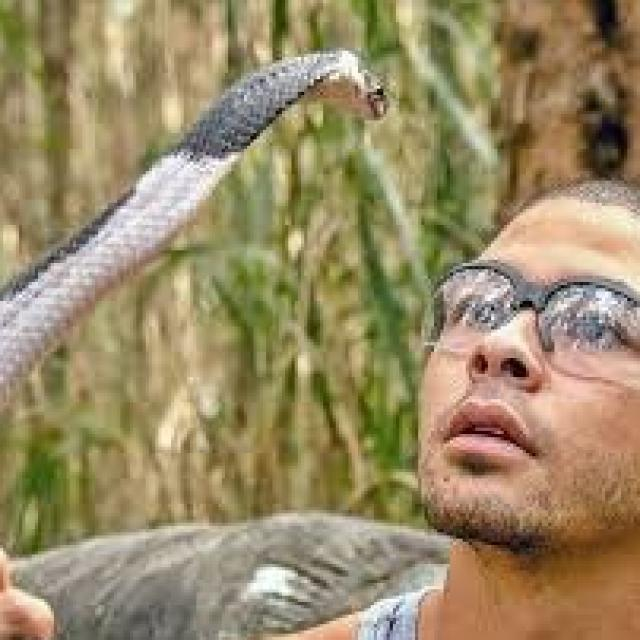Glasses: (412, 254, 640, 396)
